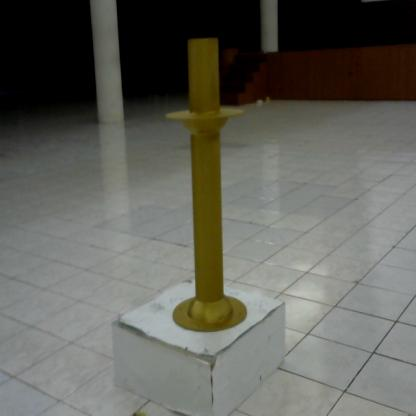pole: (161, 31, 255, 345)
